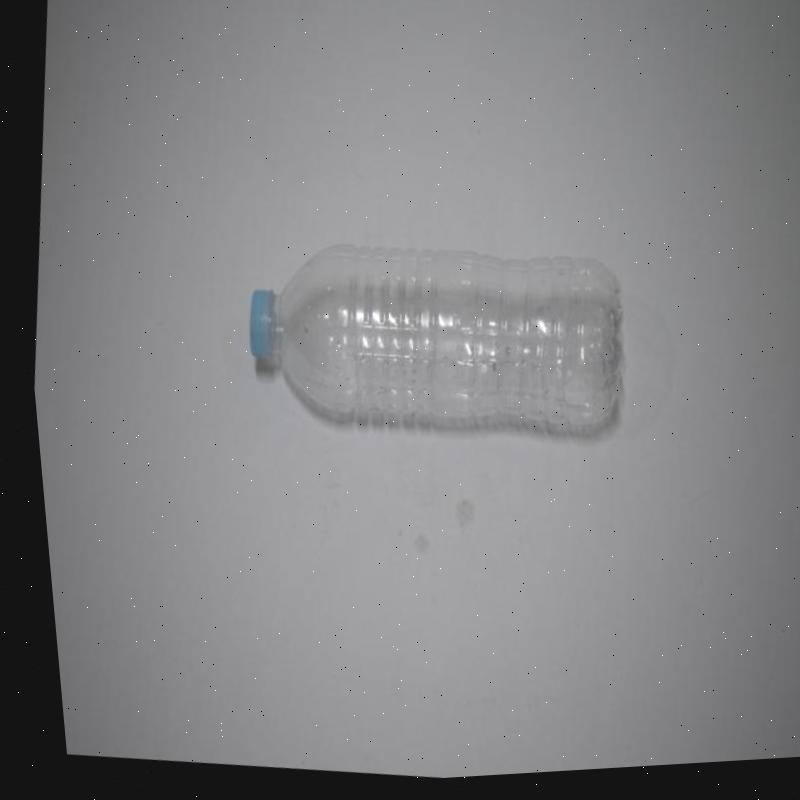botella: (225, 223, 634, 465)
